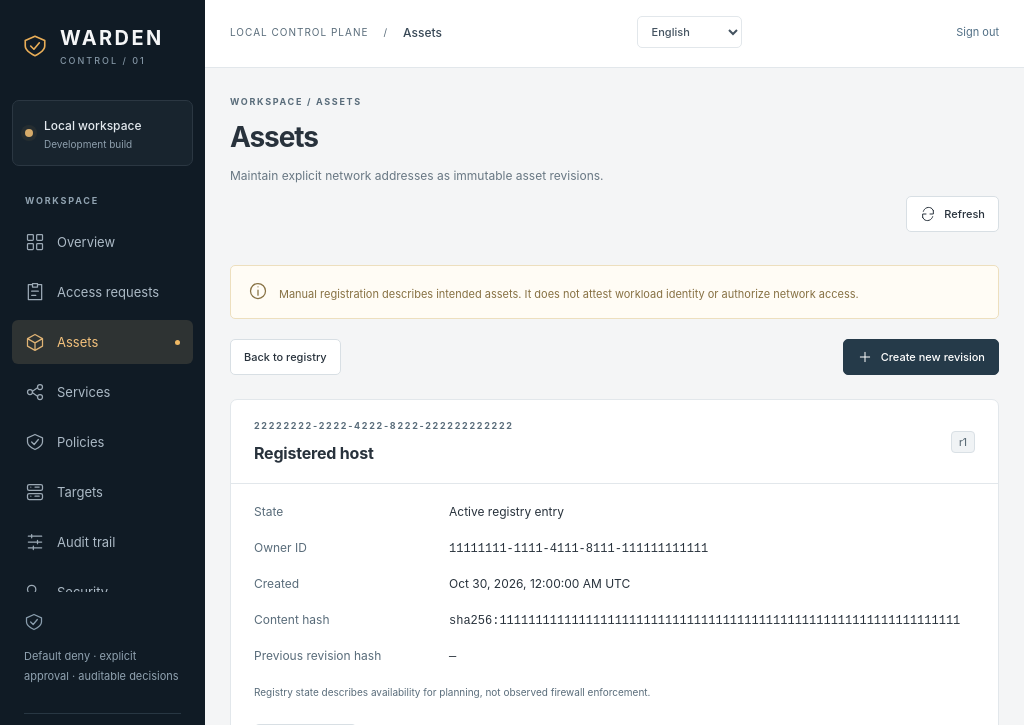
Test: asset revisions bind the exact HTTP ETag and block further submit after a stale response
Click the button "Create new revision": point(921, 357) [843,339,999,375]
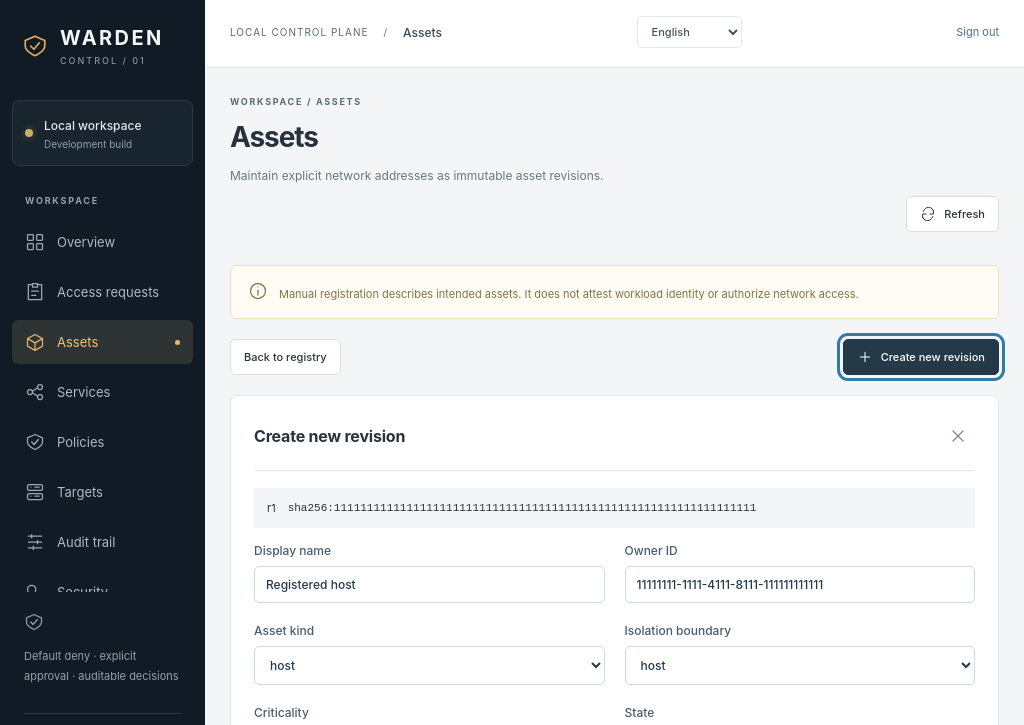
Replace the text in the field labelled "Display name" with "Revised host": point(429, 585) [254,566,604,603]
(page scrolled)
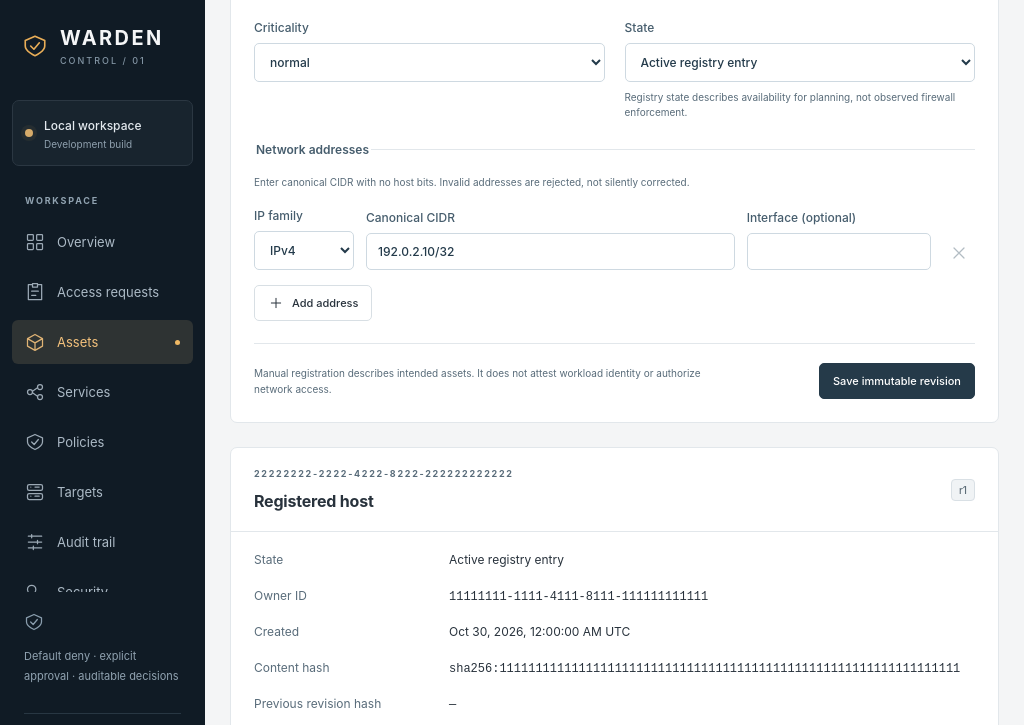
Click the button "Save immutable revision": point(897, 381) [819,363,975,399]
(page scrolled)
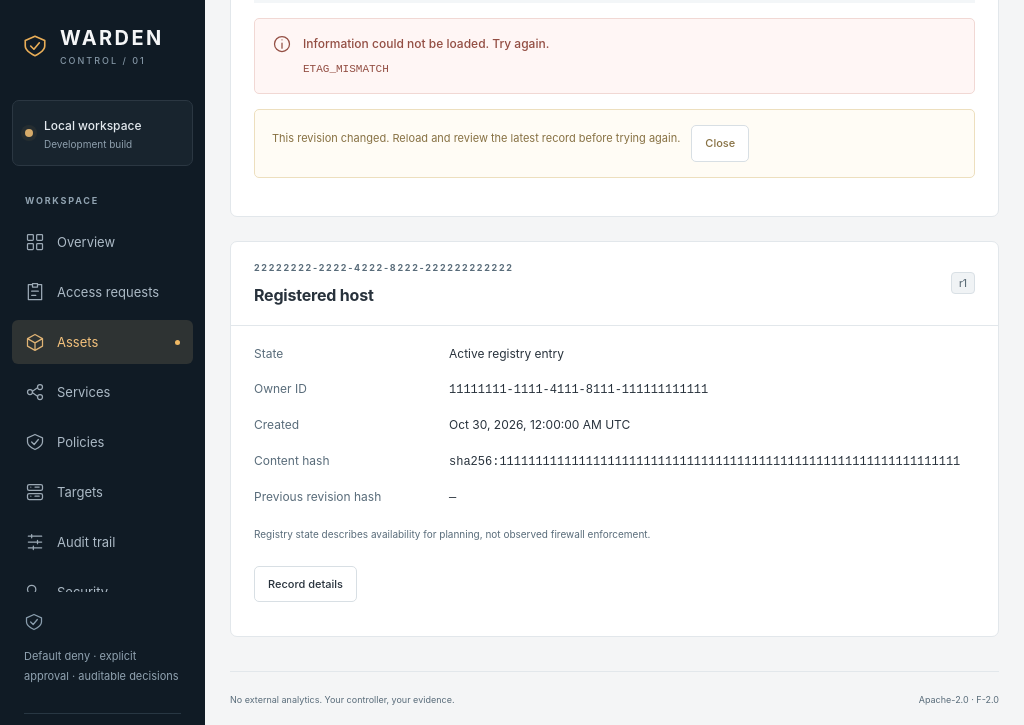
Now the text "ETAG_MISMATCH" is shown, box [303,63,389,75]
Now the text "This revision changed. Reload and review the latest record before trying again." is shown, box [272,129,680,147]
Now the button "Save immutable revision" is gone
